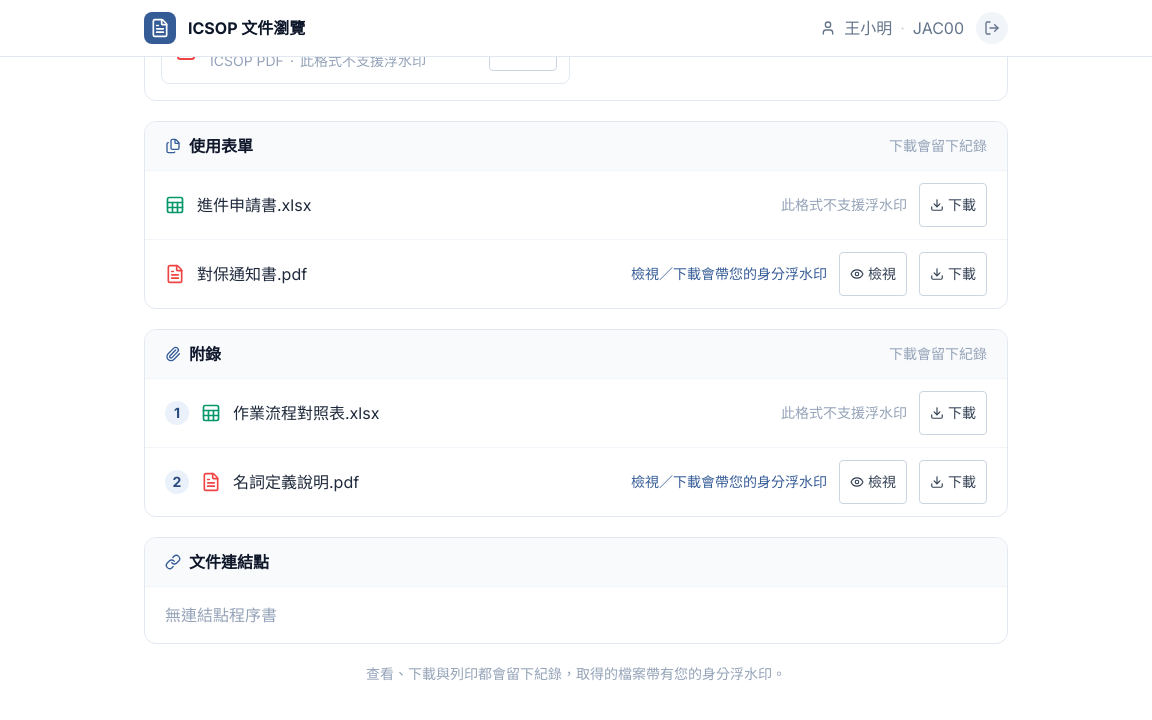
Test case: 前台使用表單／附錄之 PDF 檢視（AC-FV1／AC-FV2） › 🔴 分頁被封鎖 ⇒ 不發請求（否則寫下使用者沒看到的 VIEW 稽核），並提示
The width and height of the screenshot is (1152, 720).
(page scrolled)
expect the text "名詞定義說明.pdf" is shown: met, box [233, 472, 359, 492]
Click the button with aria-label "檢視「名詞定義說明.pdf」": point(873, 482) [839, 460, 907, 504]
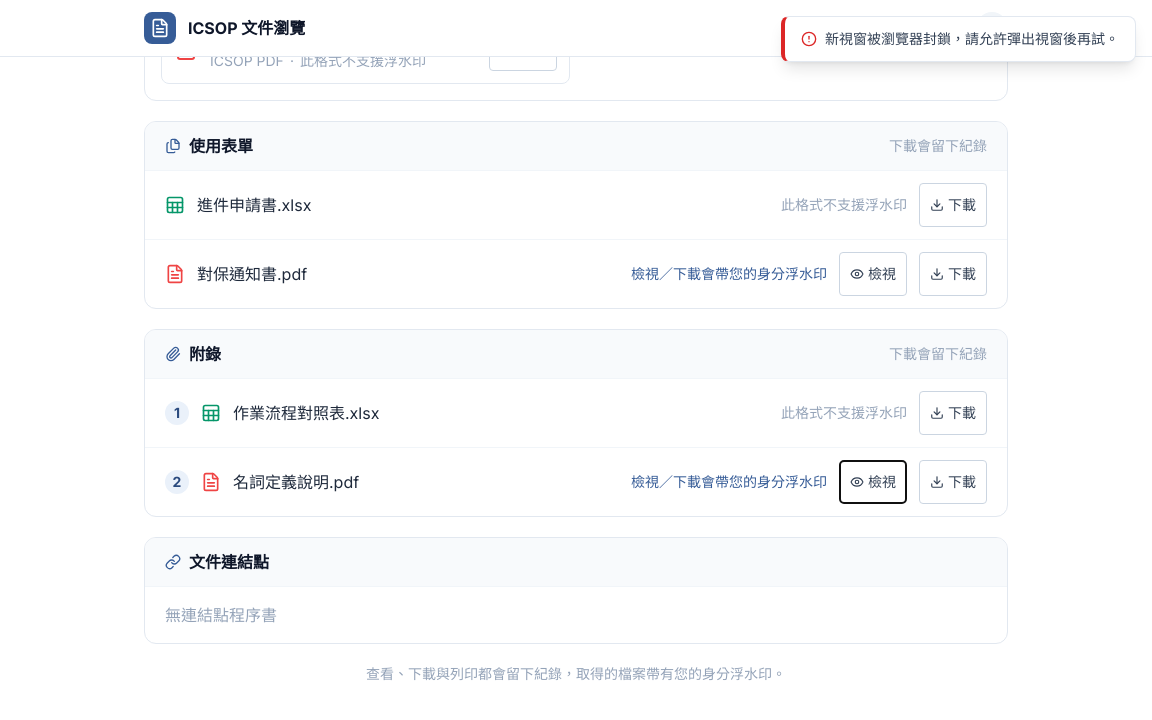
expect the text "新視窗被瀏覽器封鎖，請允許彈出視窗後再試。" is shown: met, box [825, 29, 1119, 49]
